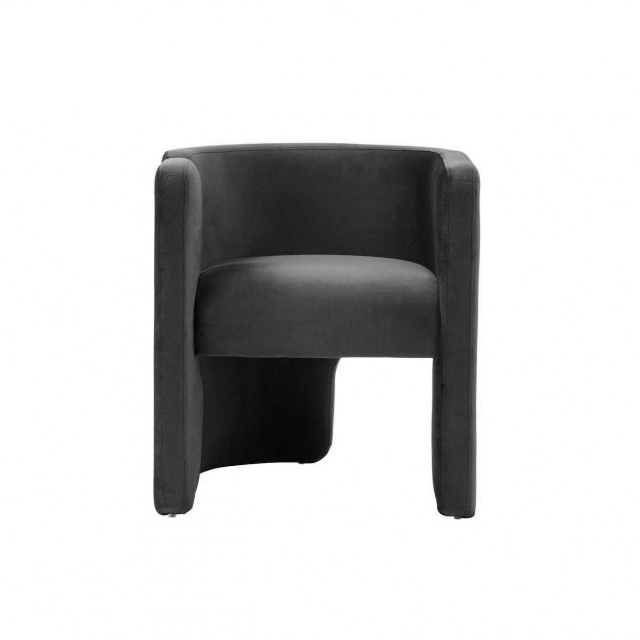obstacle: (154, 144, 478, 517)
